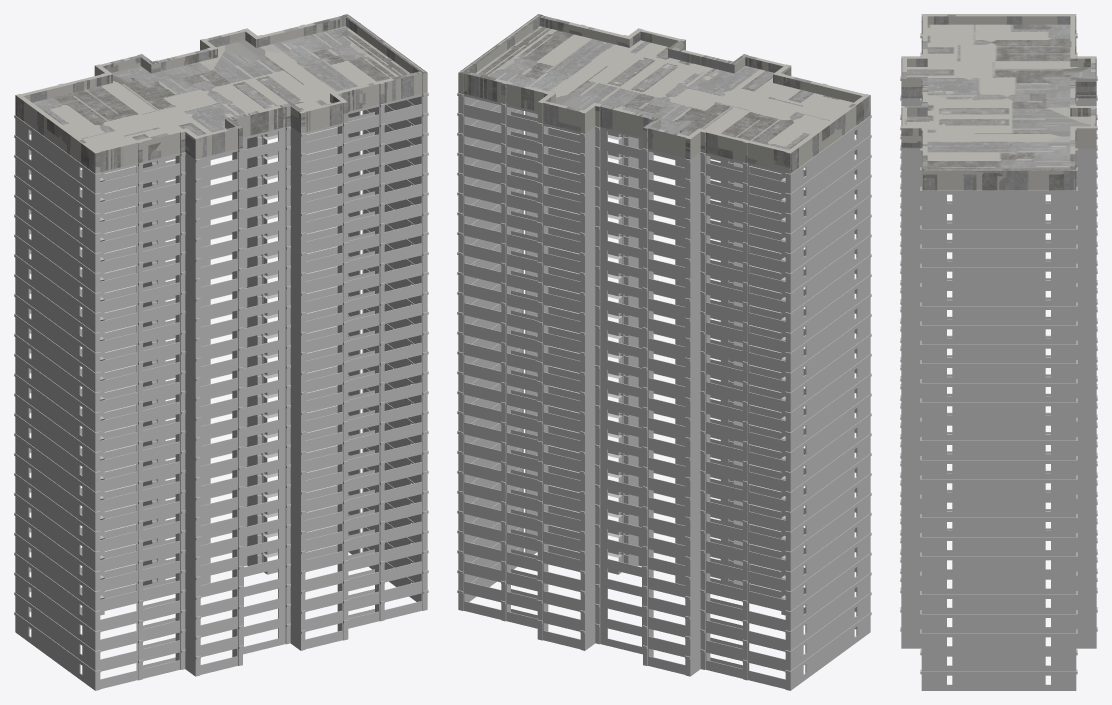
The model's file is building.obj.
3 views of the same model, side by side, from view 1: azimuth 30°, elevation 25°; view 2: azimuth 150°, elevation 25°; view 3: azimuth 270°, elevation 25° (orthographic). The views are drawn at different scales.
Visible parts, largest first — view 1: Res_1_T_walls_main_0, Res_1_T_Roof_0; view 2: Res_1_T_walls_main_0, Res_1_T_Roof_0; view 3: Res_1_T_walls_main_0, Res_1_T_Roof_0.
Part boxes in pixels (x1,y1,x2,y2): Res_1_T_walls_main_0: (14,93,428,690); Res_1_T_Roof_0: (15,14,427,173); Res_1_T_walls_main_0: (457,93,871,690); Res_1_T_Roof_0: (458,14,870,173); Res_1_T_walls_main_0: (900,33,1097,690); Res_1_T_Roof_0: (901,14,1096,190).
Size of the model in its own units: 34.59 by 53.3 by 18.33.
